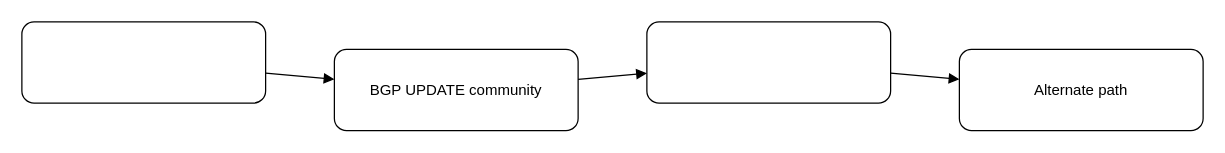
Image size: 1225x153. Some labels were removed from this diagram. The centre of each missing label's shape, as x and y in pixels:
Initiator gshut: (x=143, y=62)
Receiver local-pref: (x=768, y=62)
